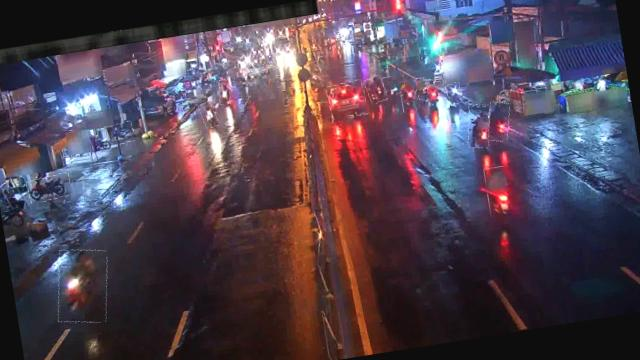Bike: (50, 244, 114, 326), (484, 166, 512, 217), (27, 172, 73, 202), (465, 102, 494, 148), (484, 100, 514, 143), (399, 80, 421, 114), (104, 121, 136, 144), (365, 74, 388, 104), (199, 100, 218, 128), (426, 81, 444, 105), (446, 82, 464, 106), (414, 76, 430, 102), (218, 79, 232, 105), (383, 76, 398, 100)
Car: (327, 80, 369, 120)
